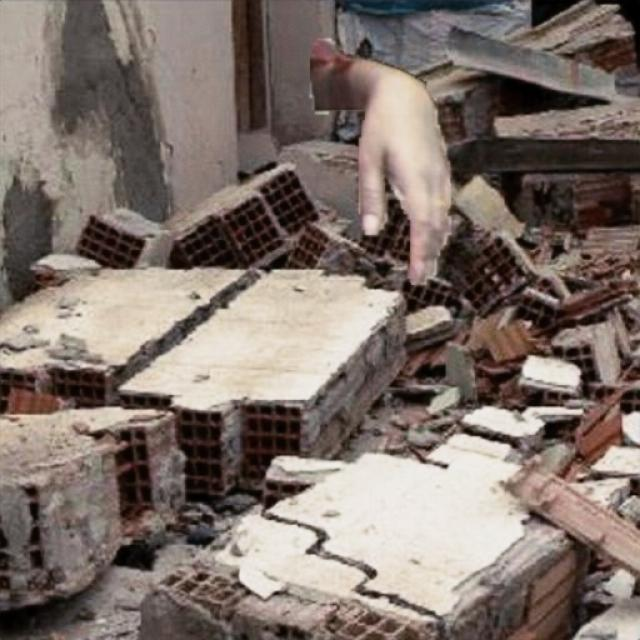Person in Rubble: (310, 39, 450, 285)
